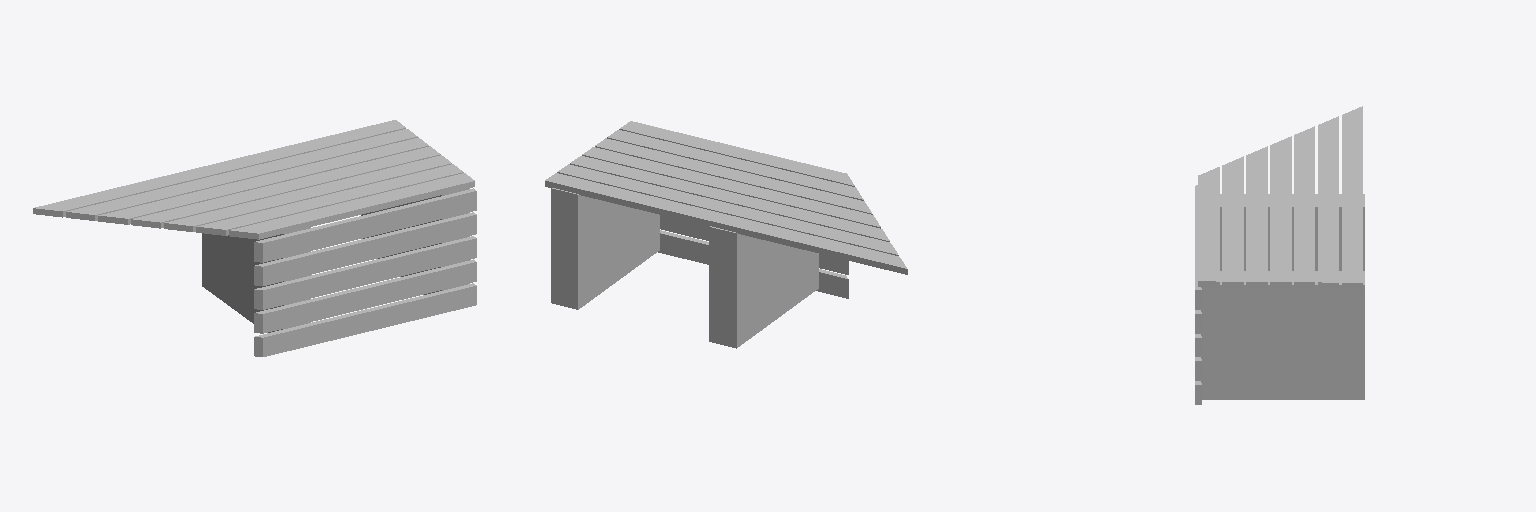
File: bench3.obj
3 renders of one model, left to right at view 1: azimuth 30°, elevation 25°; view 2: azimuth 150°, elevation 25°; view 3: azimuth 270°, elevation 25°, orthographic.
Parts seen in each view (by area): view 1: Cube.002; view 2: Cube.002; view 3: Cube.002.
Boxes of the visible parts, x1=… form: Cube.002: x1=33, y1=120, x2=476, y2=356; Cube.002: x1=545, y1=121, x2=907, y2=348; Cube.002: x1=1195, y1=106, x2=1364, y2=404.
Bounding box in the file's own units: 1.57 × 0.5095 × 0.6375.